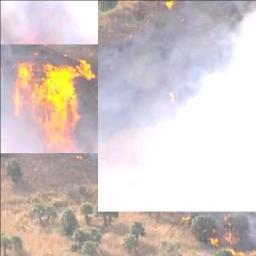Heavy smoke: (100, 0, 256, 211), (0, 0, 98, 45)
Large fire: (0, 46, 98, 154)
